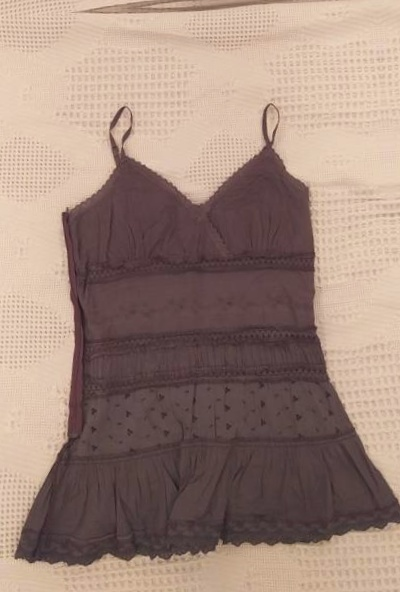Dress: (0, 86, 400, 592), (396, 55, 400, 561)
